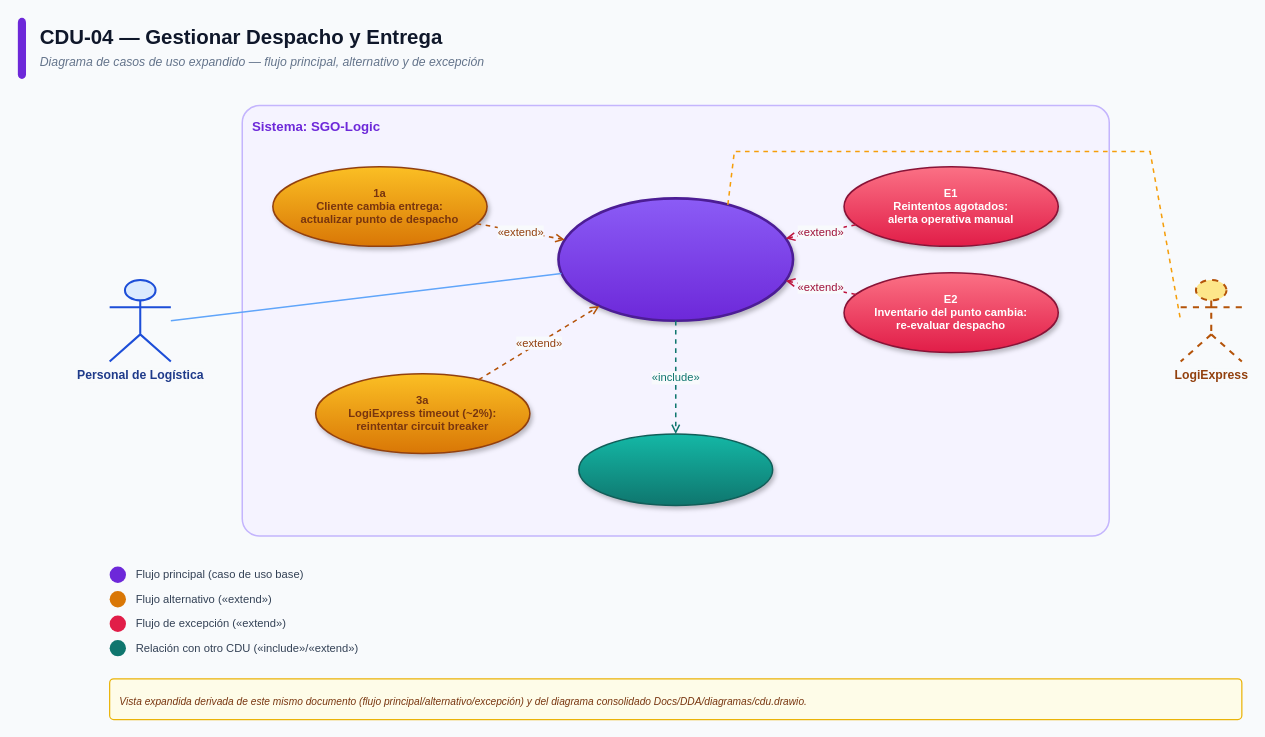
The diagram is 1265 pixels wide and 737 high, and some of its shapes have lost their labels. The centre of each missing label's shape, as x and y in pixels:
"CDU-04 Gestionar Despacho y Entrega" goes at (676,261).
"CDU-08 Gestionar Inventario Centralizado" goes at (676,471).
